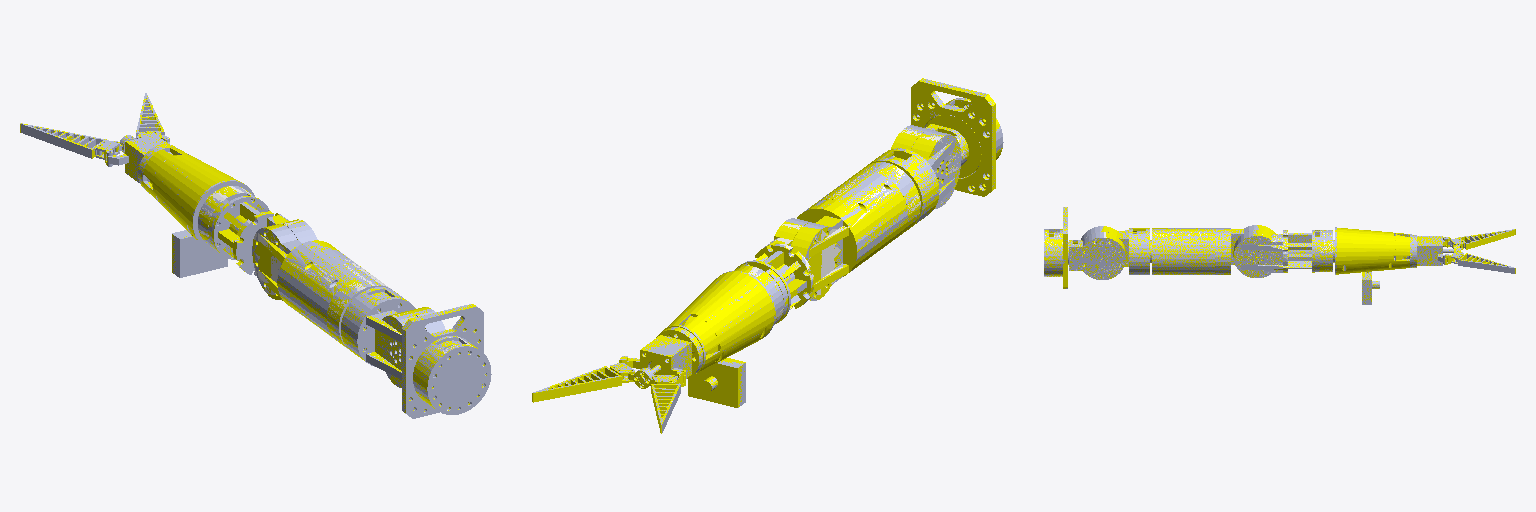
URDF robot description (mech_arm_endeff_v01):
<?xml version="1.0" encoding="utf-8"?>
<!-- This URDF was automatically created by SolidWorks to URDF Exporter! Originally created by Stephen Brawner (brawner@gmail.com) 
     Commit Version: 1.6.0-4-g7f85cfe  Build Version: 1.6.7995.38578
     For more information, please see http://wiki.ros.org/sw_urdf_exporter -->
<robot
  name="mech_arm_endeff_v01">
  <link
    name="base_link">
    <inertial>
      <origin
        xyz="-1.2143E-17 0.023358 0.0037408"
        rpy="0 0 0" />
      <mass
        value="0.16801" />
      <inertia
        ixx="1"
        ixy="0"
        ixz="0"
        iyy="1"
        iyz="0"
        izz="1" />
    </inertial>
    <visual>
      <origin
        xyz="0 0 0"
        rpy="0 0 0" />
      <geometry>
        <mesh
          filename="package://mech_arm_endeff_v01/meshes/base_link.STL" />
      </geometry>
      <material
        name="">
        <color
          rgba="0.79216 0.81961 0.93333 1" />
      </material>
    </visual>
    <collision>
      <origin
        xyz="0 0 0"
        rpy="0 0 0" />
      <geometry>
        <mesh
          filename="package://mech_arm_endeff_v01/meshes/base_link.STL" />
      </geometry>
    </collision>
  </link>
  <link
    name="link1">
    <inertial>
      <origin
        xyz="0.0059224 0.010175 0.00014966"
        rpy="0 0 0" />
      <mass
        value="0.26517" />
      <inertia
        ixx="1"
        ixy="0"
        ixz="0"
        iyy="1"
        iyz="0"
        izz="1" />
    </inertial>
    <visual>
      <origin
        xyz="0 0 0"
        rpy="0 0 0" />
      <geometry>
        <mesh
          filename="package://mech_arm_endeff_v01/meshes/link1.STL" />
      </geometry>
      <material
        name="">
        <color
          rgba="1 1 0 1" />
      </material>
    </visual>
    <collision>
      <origin
        xyz="0 0 0"
        rpy="0 0 0" />
      <geometry>
        <mesh
          filename="package://mech_arm_endeff_v01/meshes/link1.STL" />
      </geometry>
    </collision>
  </link>
  <joint
    name="joint1"
    type="revolute">
    <origin
      xyz="0 0.047 0"
      rpy="0 0 0" />
    <parent
      link="base_link" />
    <child
      link="link1" />
    <axis
      xyz="0 1 0" />
    <limit
      lower="-3.14"
      upper="3.14"
      effort="100"
      velocity="3" />
  </joint>
  <link
    name="link2">
    <inertial>
      <origin
        xyz="0.012682 0.019753 -0.0006504"
        rpy="0 0 0" />
      <mass
        value="0.32939" />
      <inertia
        ixx="1"
        ixy="0"
        ixz="0"
        iyy="1"
        iyz="0"
        izz="1" />
    </inertial>
    <visual>
      <origin
        xyz="0 0 0"
        rpy="0 0 0" />
      <geometry>
        <mesh
          filename="package://mech_arm_endeff_v01/meshes/link2.STL" />
      </geometry>
      <material
        name="">
        <color
          rgba="1 1 0 1" />
      </material>
    </visual>
    <collision>
      <origin
        xyz="0 0 0"
        rpy="0 0 0" />
      <geometry>
        <mesh
          filename="package://mech_arm_endeff_v01/meshes/link2.STL" />
      </geometry>
    </collision>
  </link>
  <joint
    name="joint2"
    type="revolute">
    <origin
      xyz="-0.0195 0.063417 0"
      rpy="0 0 0" />
    <parent
      link="link1" />
    <child
      link="link2" />
    <axis
      xyz="1 0 0" />
    <limit
      lower="-3.14"
      upper="3.14"
      effort="100"
      velocity="3" />
  </joint>
  <link
    name="link3">
    <inertial>
      <origin
        xyz="-0.0029722 0.066085 0.00036808"
        rpy="0 0 0" />
      <mass
        value="0.49166" />
      <inertia
        ixx="1"
        ixy="0"
        ixz="0"
        iyy="1"
        iyz="0"
        izz="1" />
    </inertial>
    <visual>
      <origin
        xyz="0 0 0"
        rpy="0 0 0" />
      <geometry>
        <mesh
          filename="package://mech_arm_endeff_v01/meshes/link3.STL" />
      </geometry>
      <material
        name="">
        <color
          rgba="1 1 0 1" />
      </material>
    </visual>
    <collision>
      <origin
        xyz="0 0 0"
        rpy="0 0 0" />
      <geometry>
        <mesh
          filename="package://mech_arm_endeff_v01/meshes/link3.STL" />
      </geometry>
    </collision>
  </link>
  <joint
    name="joint3"
    type="revolute">
    <origin
      xyz="0.014 0.0945 0"
      rpy="0 0 0" />
    <parent
      link="link2" />
    <child
      link="link3" />
    <axis
      xyz="0 -1 0" />
    <limit
      lower="-3.14"
      upper="3.14"
      effort="100"
      velocity="3" />
  </joint>
  <link
    name="link4">
    <inertial>
      <origin
        xyz="-0.017028 0.03919 -0.00025351"
        rpy="0 0 0" />
      <mass
        value="0.42102" />
      <inertia
        ixx="1"
        ixy="0"
        ixz="0"
        iyy="1"
        iyz="0"
        izz="1" />
    </inertial>
    <visual>
      <origin
        xyz="0 0 0"
        rpy="0 0 0" />
      <geometry>
        <mesh
          filename="package://mech_arm_endeff_v01/meshes/link4.STL" />
      </geometry>
      <material
        name="">
        <color
          rgba="1 1 0 1" />
      </material>
    </visual>
    <collision>
      <origin
        xyz="0 0 0"
        rpy="0 0 0" />
      <geometry>
        <mesh
          filename="package://mech_arm_endeff_v01/meshes/link4.STL" />
      </geometry>
    </collision>
  </link>
  <joint
    name="joint4"
    type="revolute">
    <origin
      xyz="0.0185 0.2 0"
      rpy="0 0 0" />
    <parent
      link="link3" />
    <child
      link="link4" />
    <axis
      xyz="-1 0 0" />
    <limit
      lower="-3.14"
      upper="3.14"
      effort="100"
      velocity="3" />
  </joint>
  <link
    name="link5">
    <inertial>
      <origin
        xyz="2.8341E-07 0.03315 -0.01156"
        rpy="0 0 0" />
      <mass
        value="0.46212" />
      <inertia
        ixx="1"
        ixy="0"
        ixz="0"
        iyy="1"
        iyz="0"
        izz="1" />
    </inertial>
    <visual>
      <origin
        xyz="0 0 0"
        rpy="0 0 0" />
      <geometry>
        <mesh
          filename="package://mech_arm_endeff_v01/meshes/link5.STL" />
      </geometry>
      <material
        name="">
        <color
          rgba="1 1 0 1" />
      </material>
    </visual>
    <collision>
      <origin
        xyz="0 0 0"
        rpy="0 0 0" />
      <geometry>
        <mesh
          filename="package://mech_arm_endeff_v01/meshes/link5.STL" />
      </geometry>
    </collision>
  </link>
  <joint
    name="joint5"
    type="revolute">
    <origin
      xyz="-0.022 0.1485 0"
      rpy="0 0 0" />
    <parent
      link="link4" />
    <child
      link="link5" />
    <axis
      xyz="0 -1 0" />
    <limit
      lower="-3.14"
      upper="3.14"
      effort="100"
      velocity="3" />
  </joint>
  <link
    name="link6">
    <inertial>
      <origin
        xyz="1.4225E-16 -0.03077 -0.00018919"
        rpy="0 0 0" />
      <mass
        value="0.12962" />
      <inertia
        ixx="1"
        ixy="0"
        ixz="0"
        iyy="1"
        iyz="0"
        izz="1" />
    </inertial>
    <visual>
      <origin
        xyz="0 0 0"
        rpy="0 0 0" />
      <geometry>
        <mesh
          filename="package://mech_arm_endeff_v01/meshes/link6.STL" />
      </geometry>
      <material
        name="">
        <color
          rgba="1 1 1 1" />
      </material>
    </visual>
    <collision>
      <origin
        xyz="0 0 0"
        rpy="0 0 0" />
      <geometry>
        <mesh
          filename="package://mech_arm_endeff_v01/meshes/link6.STL" />
      </geometry>
    </collision>
  </link>
  <joint
    name="joint6"
    type="fixed">
    <origin
      xyz="0 0.239 0"
      rpy="0 0 0" />
    <parent
      link="link5" />
    <child
      link="link6" />
    <axis
      xyz="0 0 0" />
    <limit
      lower="0"
      upper="0"
      effort="0"
      velocity="0" />
  </joint>
</robot>

--- What the picture shows (computed from the rendered views, not written in the file) ---
The picture shows the robot from 3 angles, left to right: view 1: azimuth 30°, elevation 25°; view 2: azimuth 150°, elevation 25°; view 3: azimuth 270°, elevation 25°; orthographic projection.
Model mech_arm_endeff_v01 with 7 links and 6 joints (5 revolute, 1 fixed), rooted at base_link, posed all joints at 0.
Links seen in each view (by area): view 1: base_link, link2, link3, link5, link1, link6, link4; view 2: link2, base_link, link3, link5, link4, link6, link1; view 3: base_link, link2, link3, link1, link5, link4.
Link boxes in pixels (x1,y1,x2,y2): base_link: (20, 93, 491, 418); link2: (20, 96, 483, 412); link3: (62, 100, 485, 408); link5: (101, 116, 486, 411); link1: (51, 113, 415, 345); link6: (59, 131, 484, 410); link4: (36, 99, 479, 410); link2: (532, 81, 1002, 433); base_link: (533, 79, 1003, 432); link3: (552, 78, 999, 416); link5: (627, 79, 998, 384); link4: (536, 78, 999, 422); link6: (566, 98, 979, 401); link1: (564, 133, 947, 399); base_link: (1044, 207, 1514, 304); link2: (1044, 207, 1515, 288); link3: (1044, 227, 1502, 303); link1: (1101, 227, 1496, 277); link5: (1045, 210, 1505, 286); link4: (1045, 209, 1498, 278).
Bounding box of the posed robot: 0.1767 × 0.8972 × 0.1716 m (x, y, z).
Meshes: 7 distinct files referenced, 7 mesh visuals loaded (7 binary STL).
